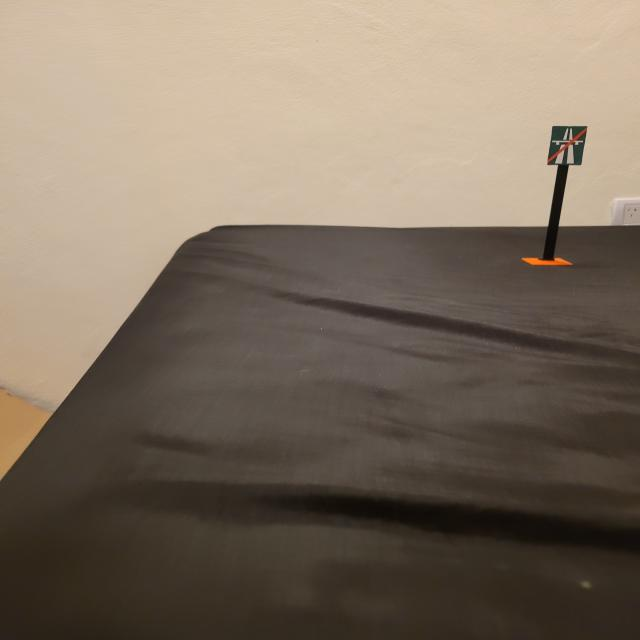highway_exit: (546, 125, 588, 167)
